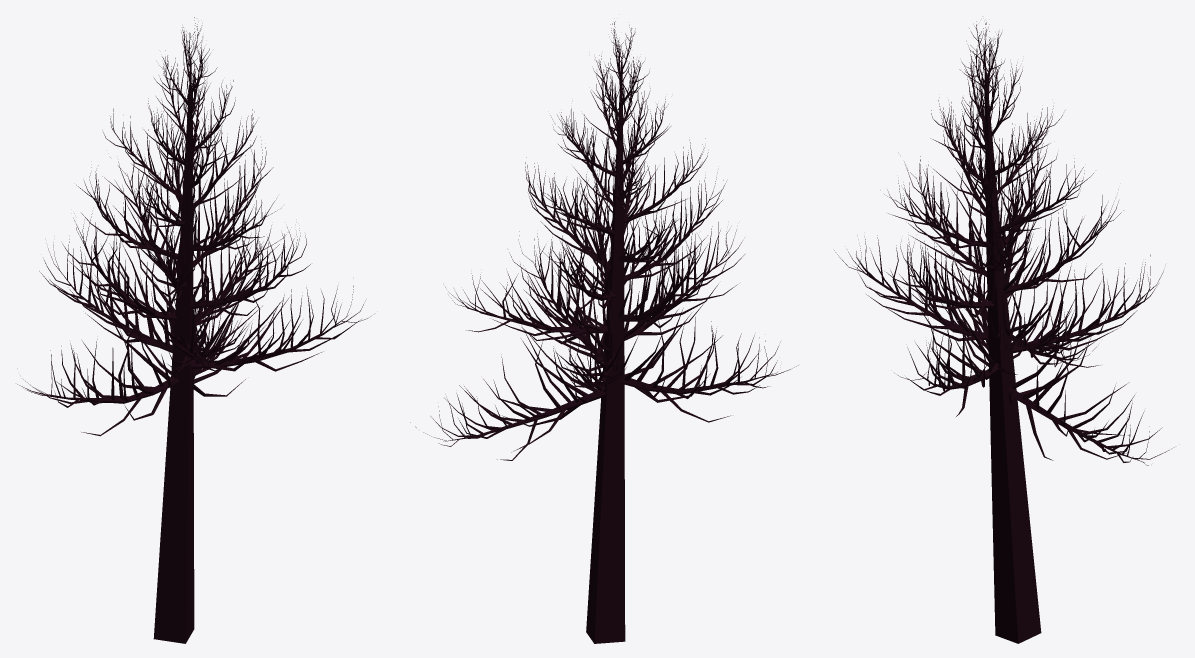
The model's file is tree-4.dae.
The picture shows the model from 3 angles, left to right: view 1: azimuth 30°, elevation 25°; view 2: azimuth 150°, elevation 25°; view 3: azimuth 270°, elevation 25°; orthographic projection. The views are drawn at different scales.
Parts seen in each view (by area): view 1: Tree-4; view 2: Tree-4; view 3: Tree-4.
Boxes of the visible parts, x1,y1,x2,y2 form: Tree-4: (17,17,370,643); Tree-4: (410,21,798,643); Tree-4: (834,21,1174,643).
Size of the model in its own units: 2.83 by 2.67 by 5.23.
